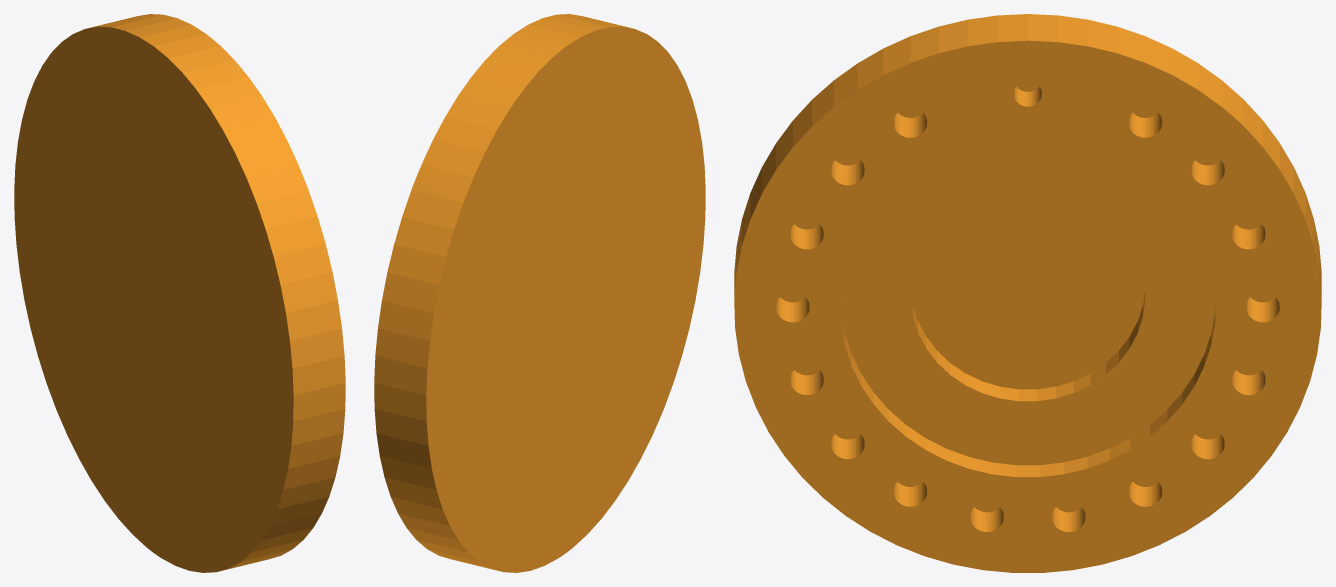
Rendered from KukaTitanLink6.dae.
The picture shows the model from 3 angles, left to right: view 1: azimuth 30°, elevation 25°; view 2: azimuth 150°, elevation 25°; view 3: azimuth 270°, elevation 25°; orthographic projection. The views are drawn at different scales.
Parts seen in each view (by area): view 1: KUKATitanLink6; view 2: KUKATitanLink6; view 3: KUKATitanLink6.
Part boxes in pixels (box(x1,y1,x2,y2)): KUKATitanLink6: box(14, 14, 345, 572); KUKATitanLink6: box(374, 14, 705, 572); KUKATitanLink6: box(734, 14, 1321, 572).
Size of the model in its own units: 0.0269 by 0.2499 by 0.25.
